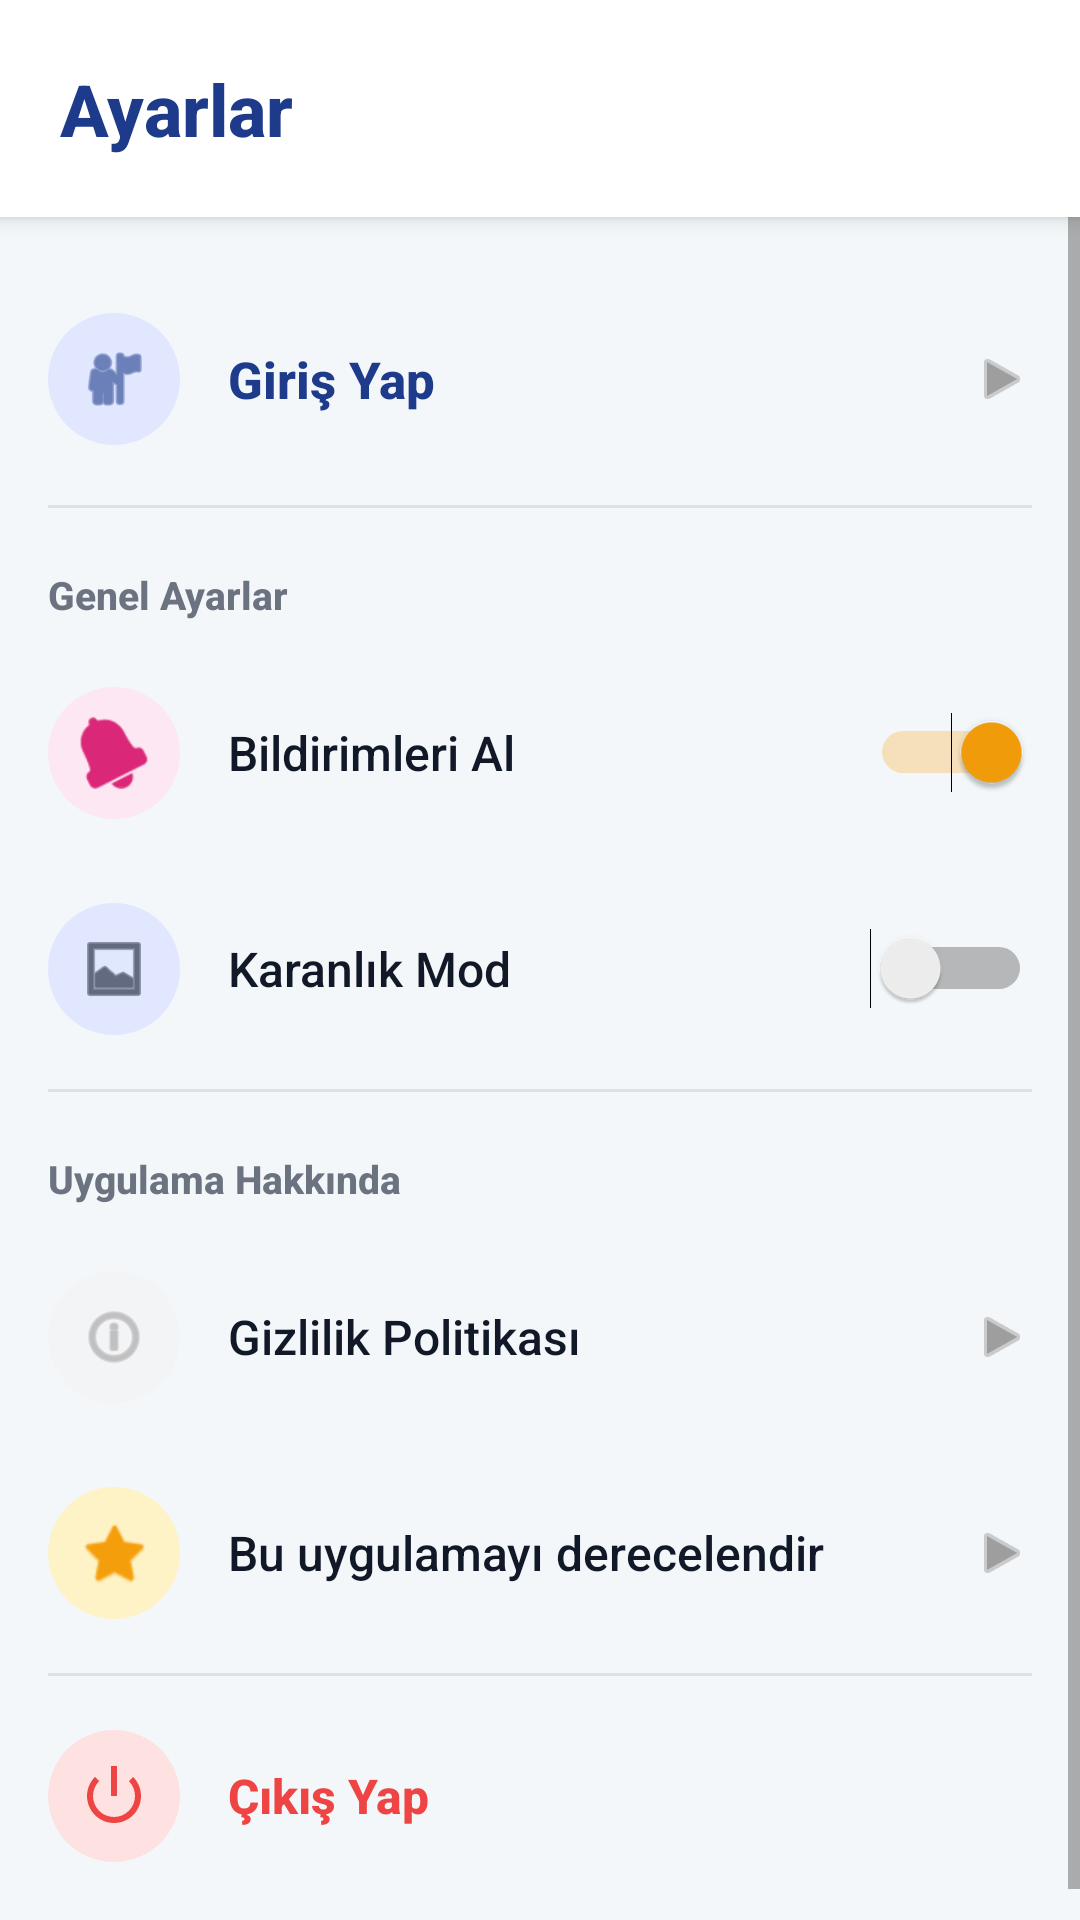

Locate icon controls on the screen. Image size 1080px×1920px, boxes as (x1, y1, x2, y2).
gallery: (87, 942, 141, 996)
info details: (88, 1311, 140, 1363)
lock power off: (48, 1730, 180, 1862)
myplaces: (87, 352, 142, 406)
play: (984, 359, 1020, 399), (984, 1317, 1020, 1357), (984, 1533, 1020, 1573)
popup reminder: (80, 717, 148, 789)
star: (48, 1487, 180, 1619)
